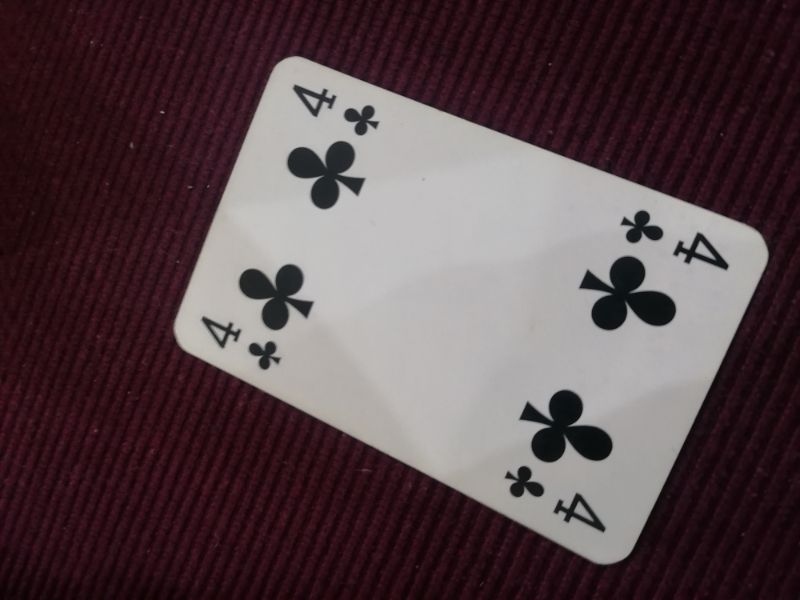4c: (619, 205, 733, 273), (503, 464, 609, 535), (197, 312, 285, 373), (290, 79, 380, 138)
